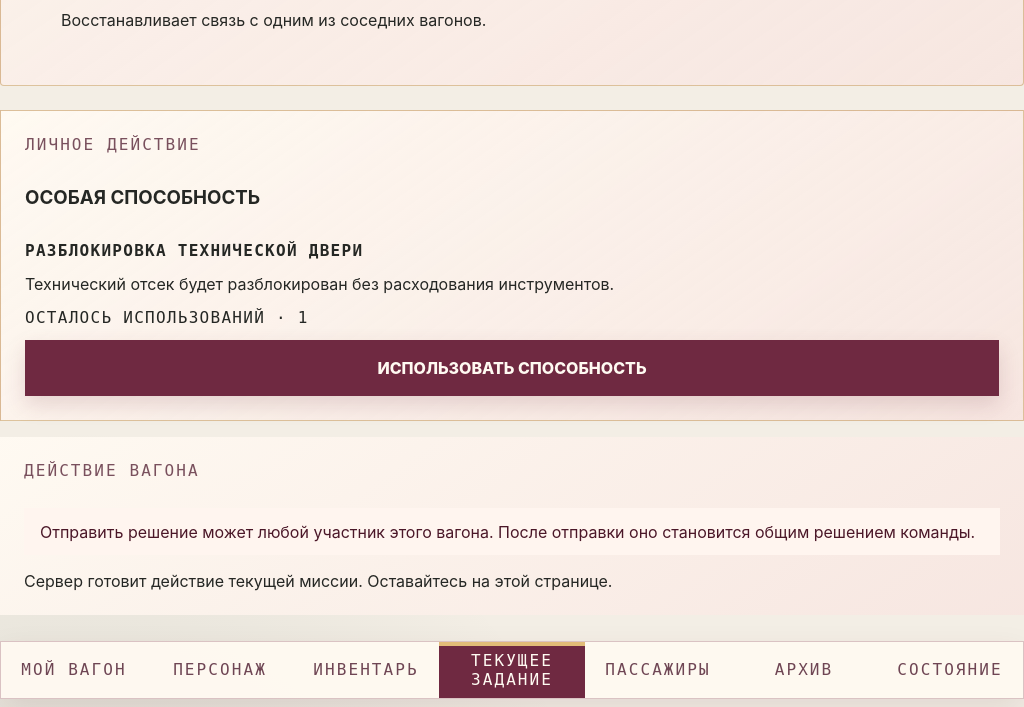
BunkerPlayerDashboard › explains and confirms an applicable ability inside the current mission
The image size is (1024, 707).
(page scrolled)
Expected: the heading "ОСОБАЯ СПОСОБНОСТЬ" is shown, [25,186,260,209]
Expected: the text "отсек будет разблокирован" is shown, [25,274,614,294]
Click the button "ИСПОЛЬЗОВАТЬ СПОСОБНОСТЬ" at (512, 368), box [25,340,999,396]
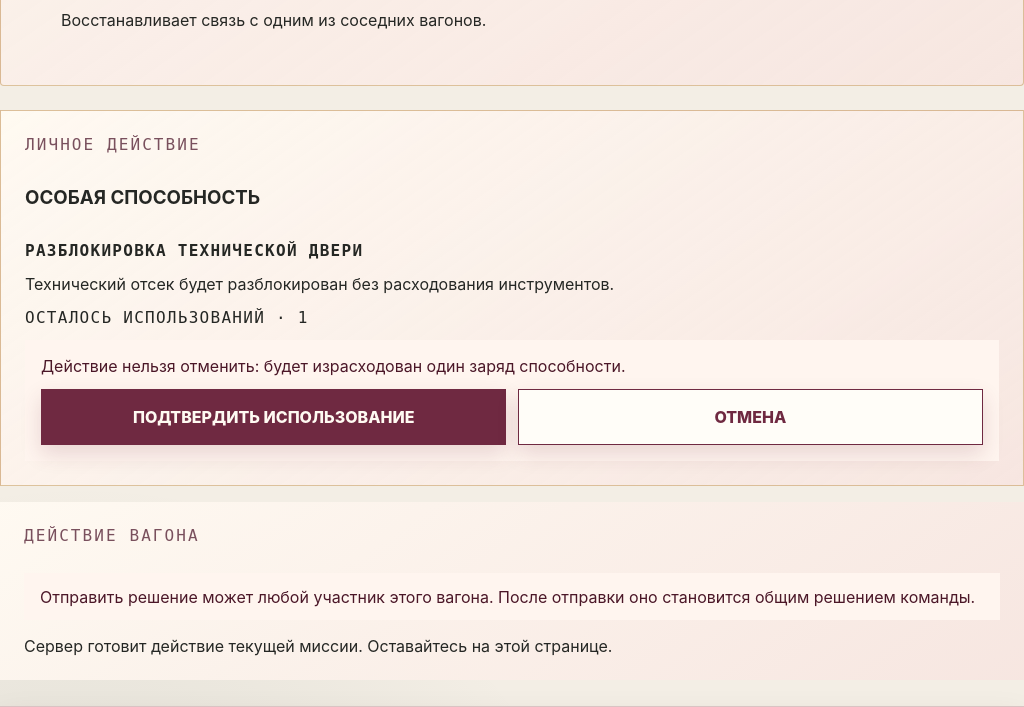
Now the text "Действие нельзя отменить" is shown, box [41,356,626,376]
Double-click the button "ПОДТВЕРДИТЬ ИСПОЛЬЗОВАНИЕ" at (274, 417), box [41,389,506,445]
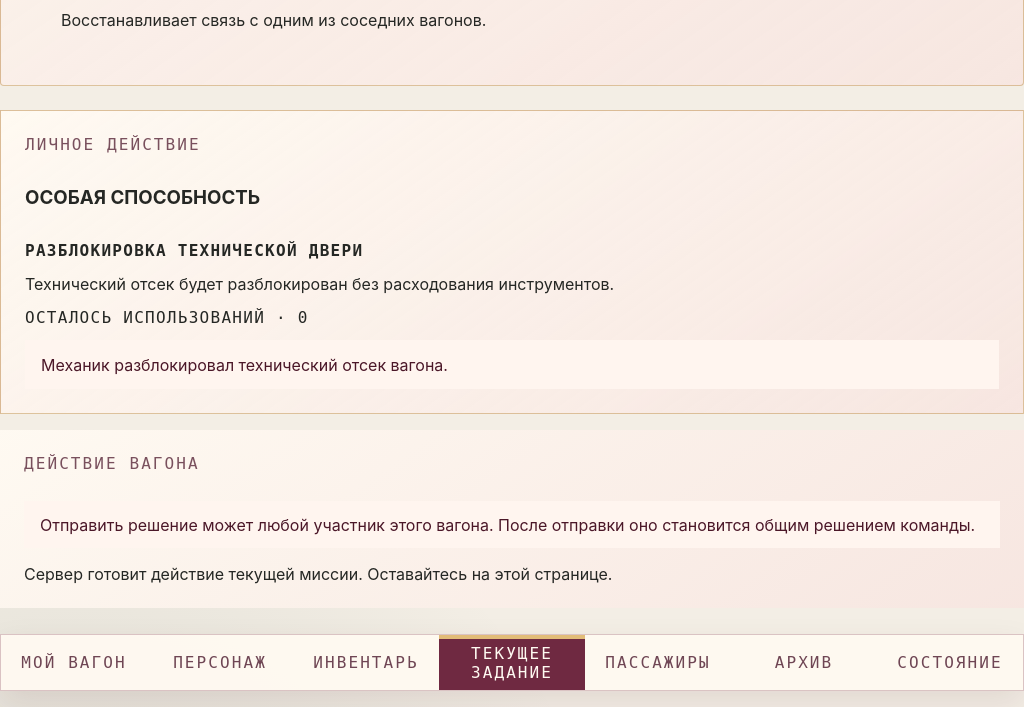
Now the text "Механик разблокировал технический отсек вагона." is shown, box [25,340,999,389]
Now the text "ОСТАЛОСЬ ИСПОЛЬЗОВАНИЙ · 0" is shown, box [25,308,309,327]
